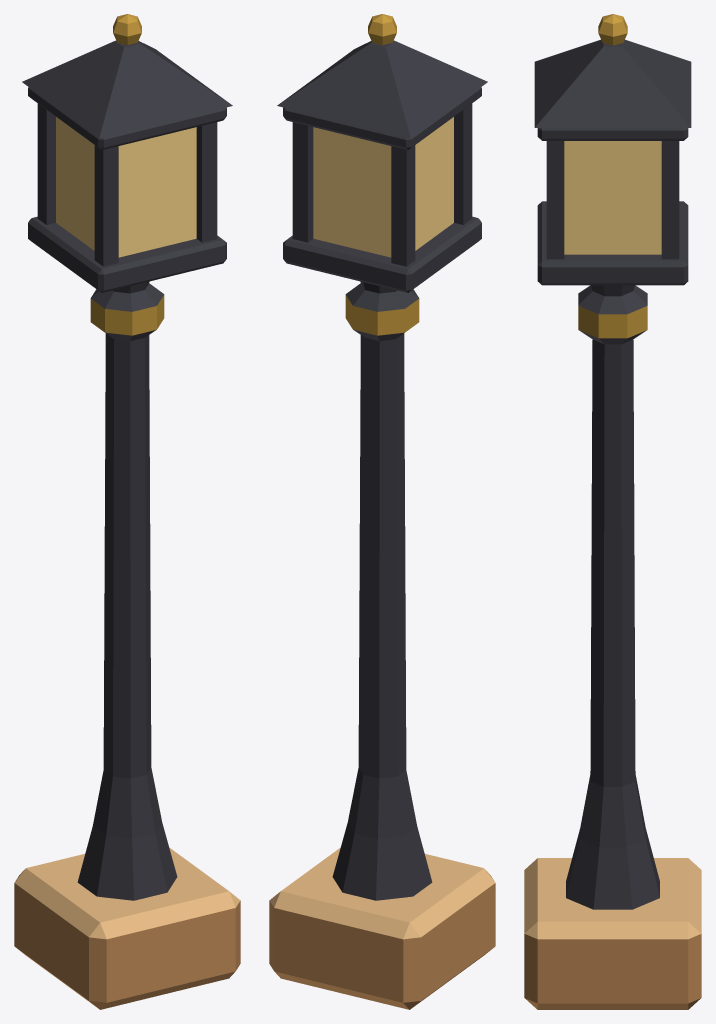
File: lamp_post.glb
The picture shows the model from 3 angles, left to right: view 1: azimuth 30°, elevation 25°; view 2: azimuth 150°, elevation 25°; view 3: azimuth 270°, elevation 25°; orthographic projection.
Visible parts, largest first — view 1: lamp_post; view 2: lamp_post; view 3: lamp_post.
Part boxes in pixels (x1=…): lamp_post: x1=14, y1=14, x2=240, y2=1009; lamp_post: x1=269, y1=14, x2=495, y2=1009; lamp_post: x1=524, y1=14, x2=701, y2=1009.
Size of the model in its own units: 0.4 by 2.4 by 0.4.
Materials: 1 (1 with a texture image).
